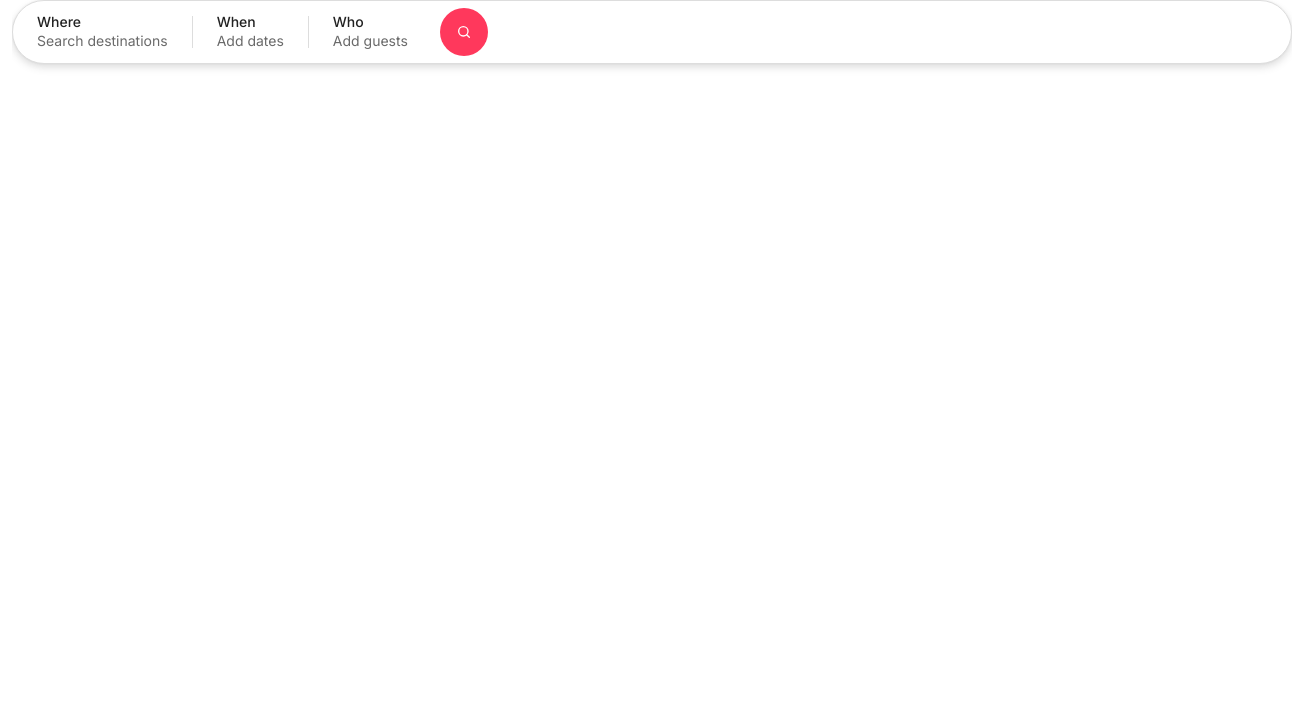
Scenario: HomeSearchBar › selecting a destination updates the Where display
Click the button "Where Search destinations".
click(102, 32)  # box [13,5,192,59]
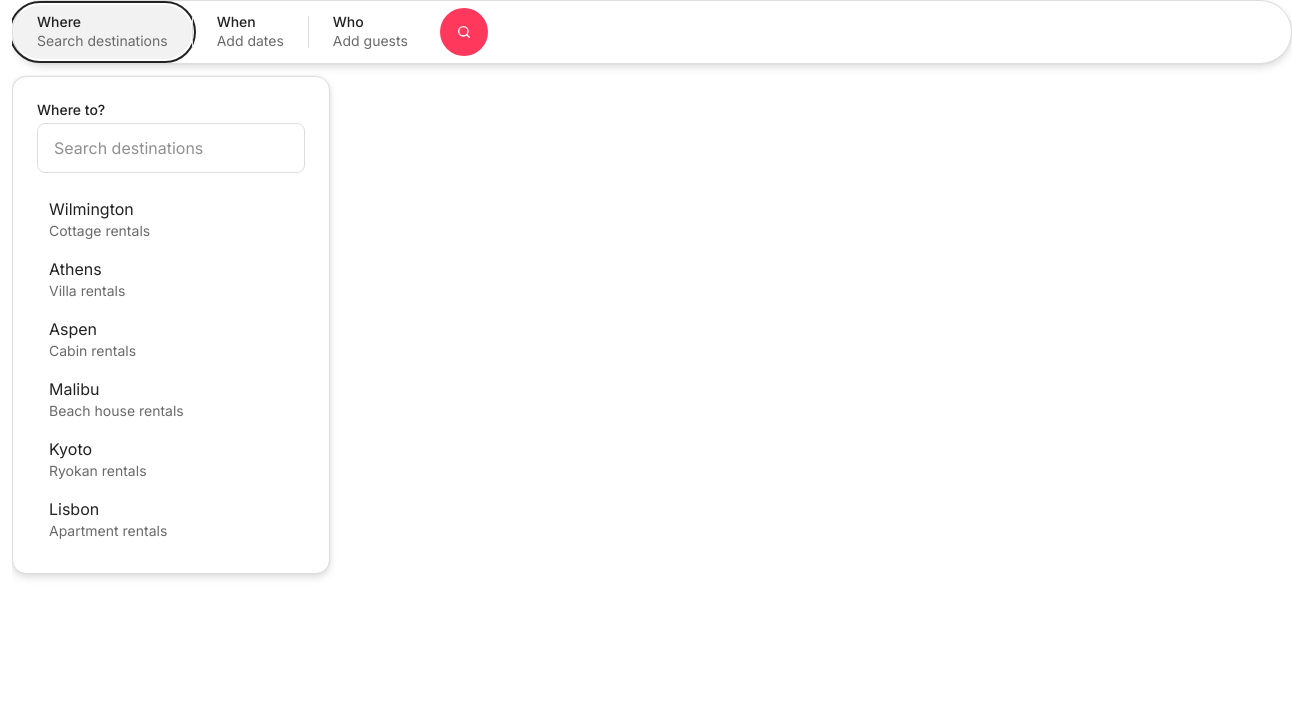
Click the button "Lisbon Apartment rentals".
click(74, 509)  # box [37,489,305,549]
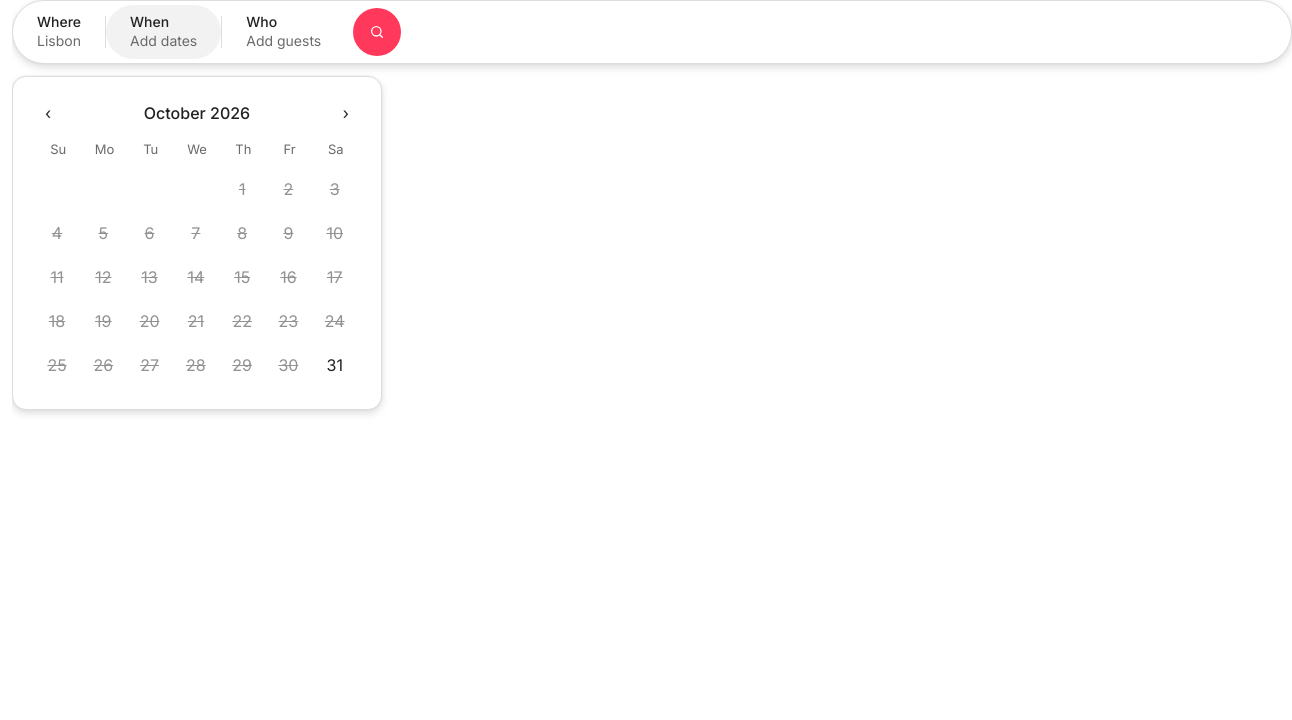
Expected: the button "Where Lisbon" is shown, [13,5,105,59]
